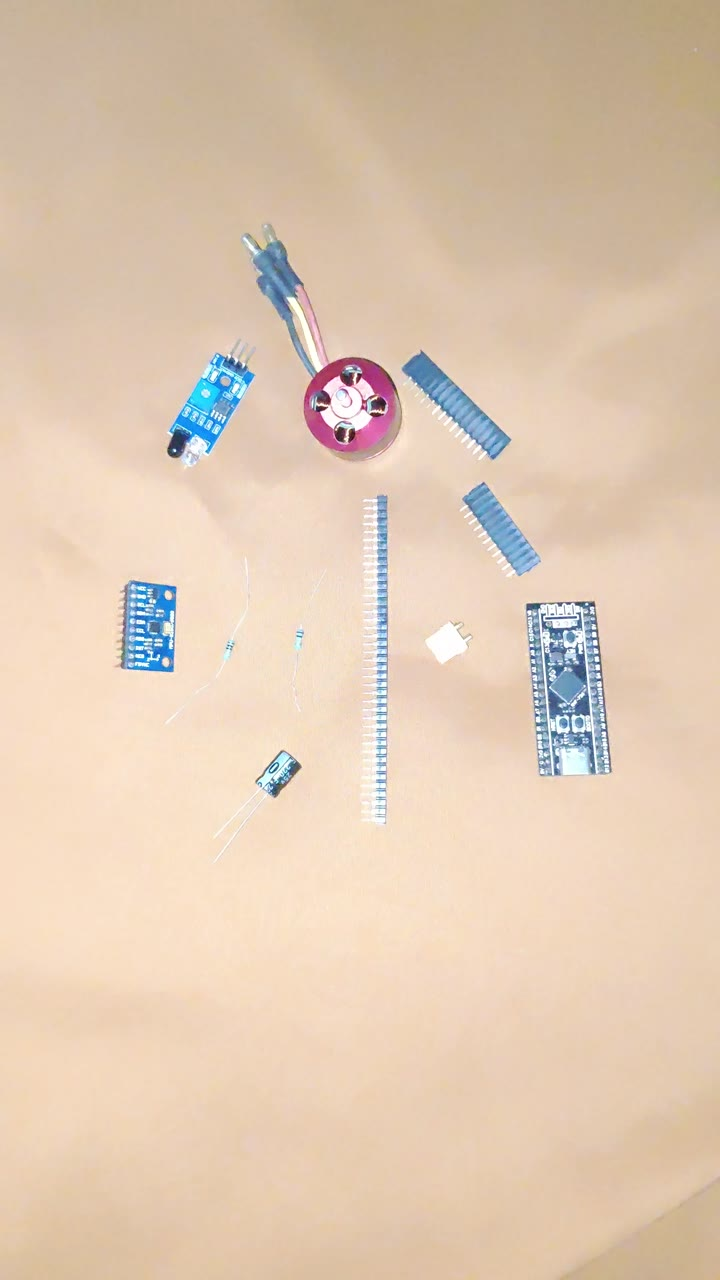bldc_motor: (281, 288, 404, 466)
elco_capacitor: (253, 748, 303, 799)
ir_sensor: (163, 347, 258, 461)
mpu6500: (114, 575, 179, 676)
pin_header: (329, 461, 413, 825), (389, 345, 516, 464), (458, 477, 543, 579)
resistor: (171, 523, 267, 724), (252, 534, 323, 722)
stm32f4: (521, 593, 613, 780)
xt30_female: (423, 620, 473, 665)
